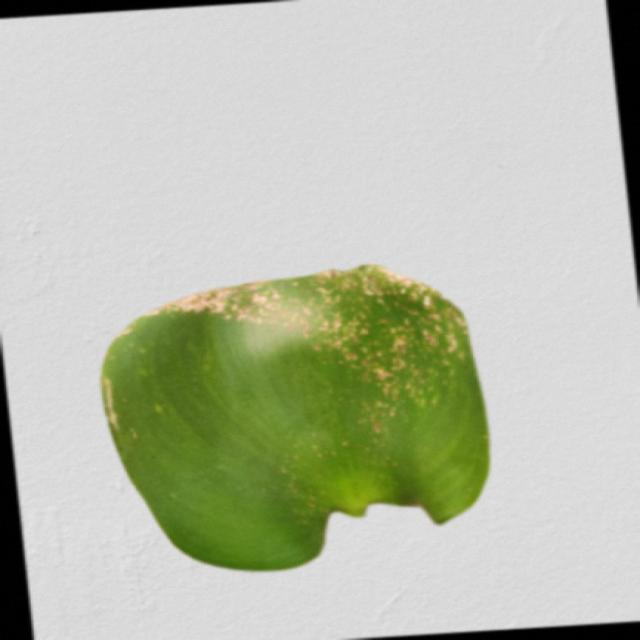daun berpenyakit bercak: (102, 265, 488, 570)
